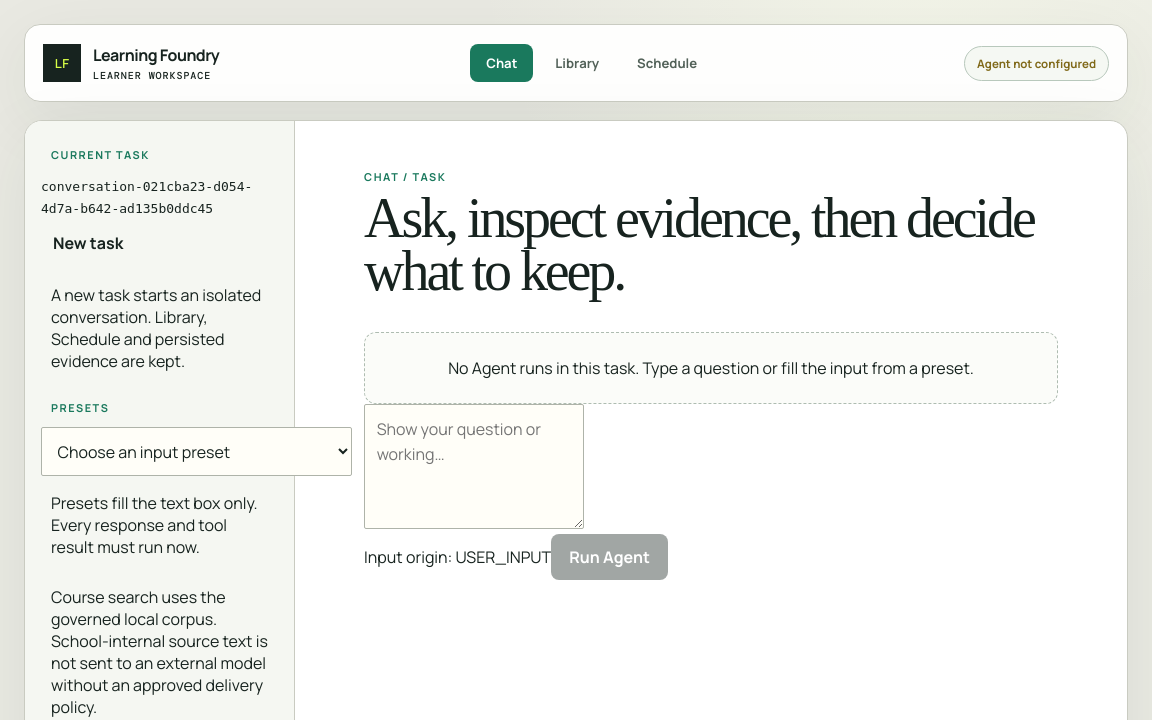
real Agent product boundaries › shows a configuration error and creates no fake answer or product record
This screenshot has width=1152, height=720.
Check: the text "Agent not configured" is shown, box [964,46,1109,80]
Type "Explain coefficients" into the text box named "Message Learning Foundry" at x=474, y=466, box [364,404,584,529]
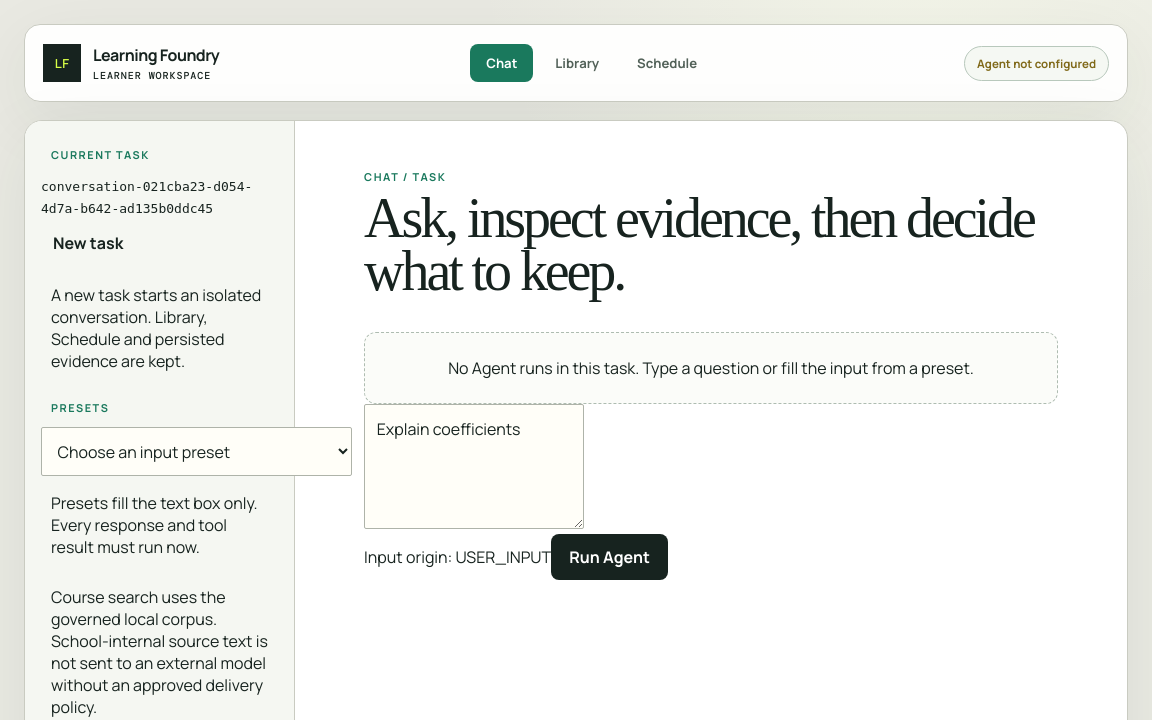
Click the button "Run Agent" at x=609, y=557, box [551,534,668,580]
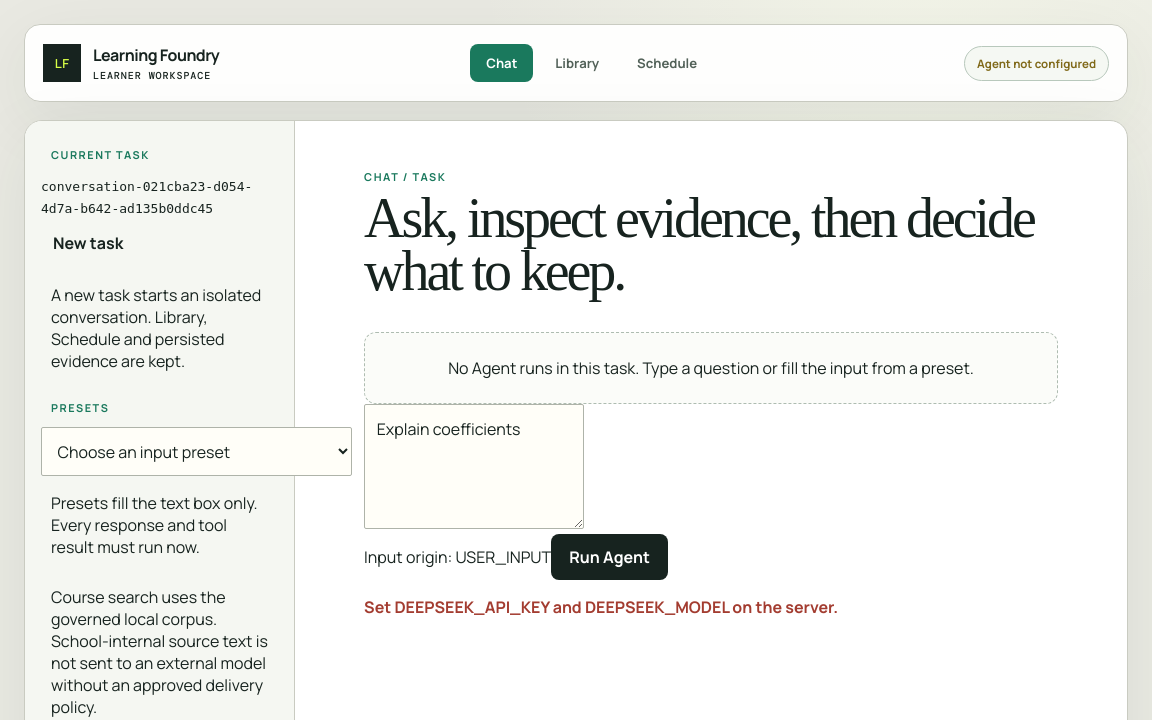
Check: the text "No Agent runs in this task" is shown, box [448,357,974,379]
Check: the message shows "DEEPSEEK_API_KEY", box [364,596,838,618]
Click the button "Library" at x=577, y=63, box [539,44,615,82]
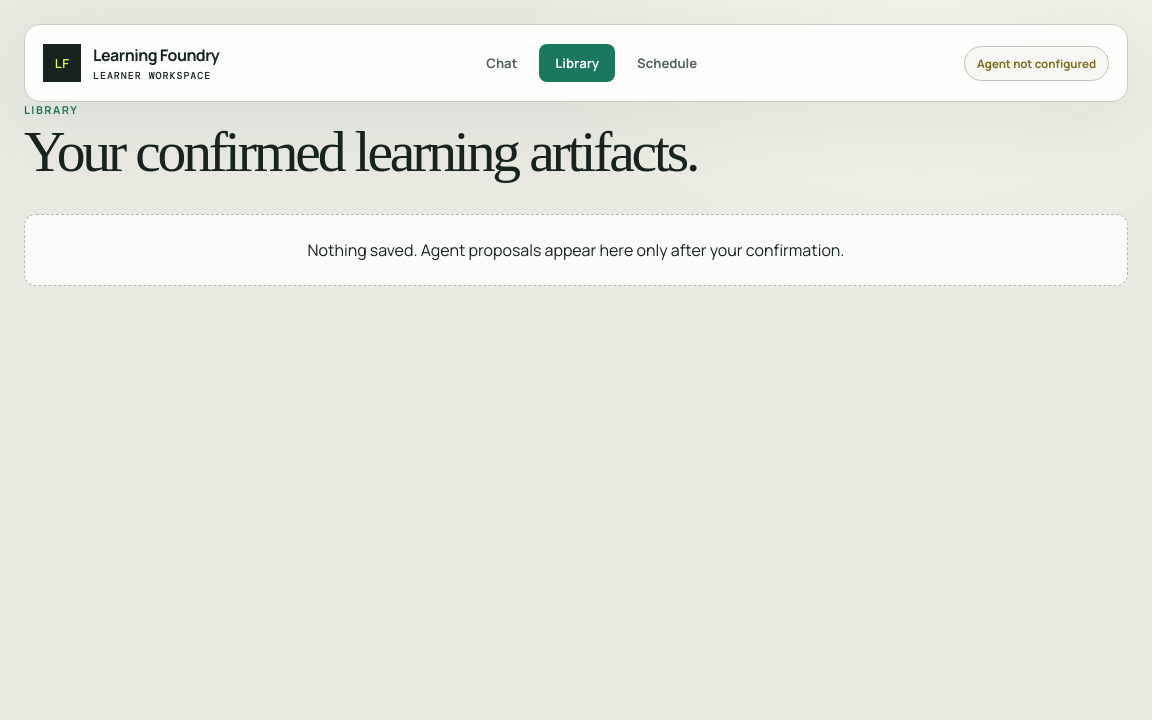
Check: the text "Nothing saved" is shown, box [308,239,844,261]
